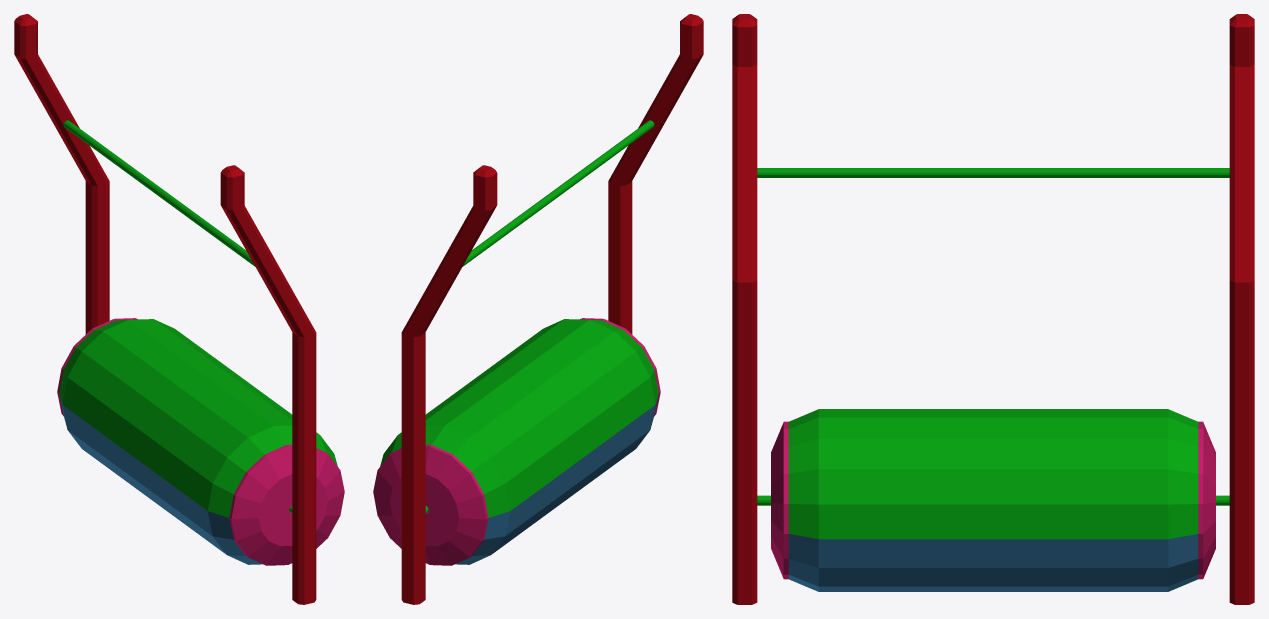
The model's file is running-wheel.glb.
The picture shows the model from 3 angles, left to right: view 1: azimuth 30°, elevation 25°; view 2: azimuth 150°, elevation 25°; view 3: azimuth 270°, elevation 25°; orthographic projection. The views are drawn at different scales.
Bounding box in the file's own units: 3.68 × 10.8 × 9.45.
